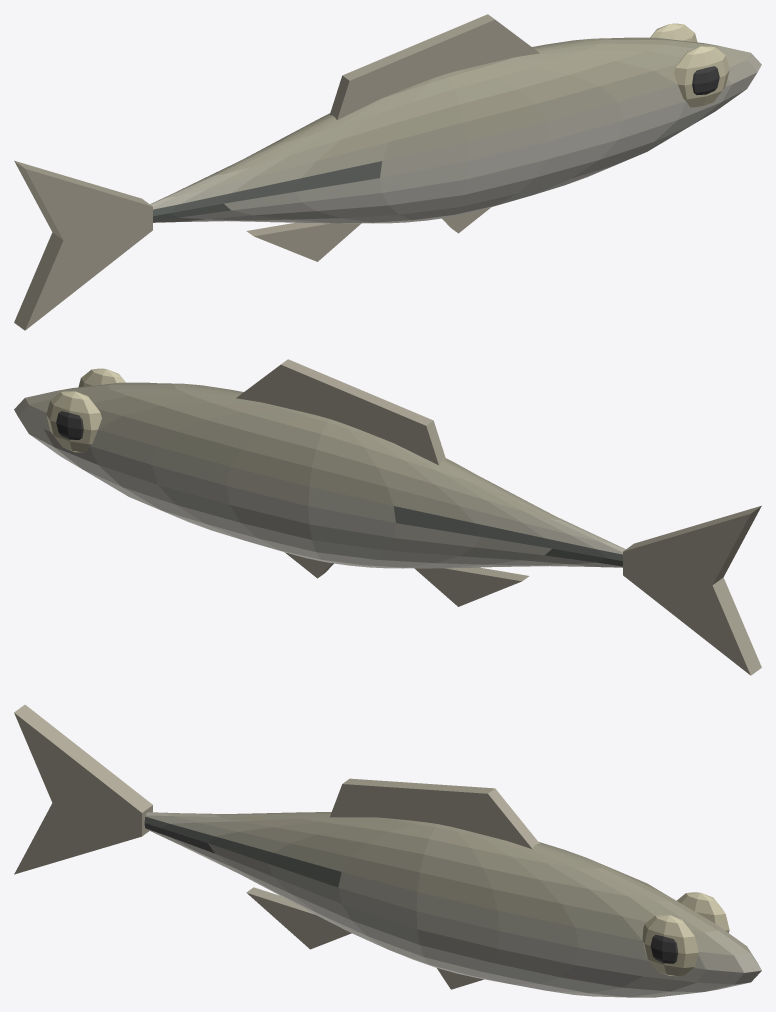
Rendered from CreekChub.glb.
The picture shows the model from 3 angles, top to bottom: view 1: azimuth 30°, elevation 25°; view 2: azimuth 150°, elevation 25°; view 3: azimuth 330°, elevation 25°; orthographic projection.
Parts seen in each view (by area): view 1: CreekChub; view 2: CreekChub; view 3: CreekChub.
Boxes of the visible parts, x1,y1,x2,y2 form: CreekChub: (14,14,761,330); CreekChub: (14,359,761,675); CreekChub: (14,704,761,997).
Bounding box in the file's own units: 1.69 × 0.4464 × 0.201.
